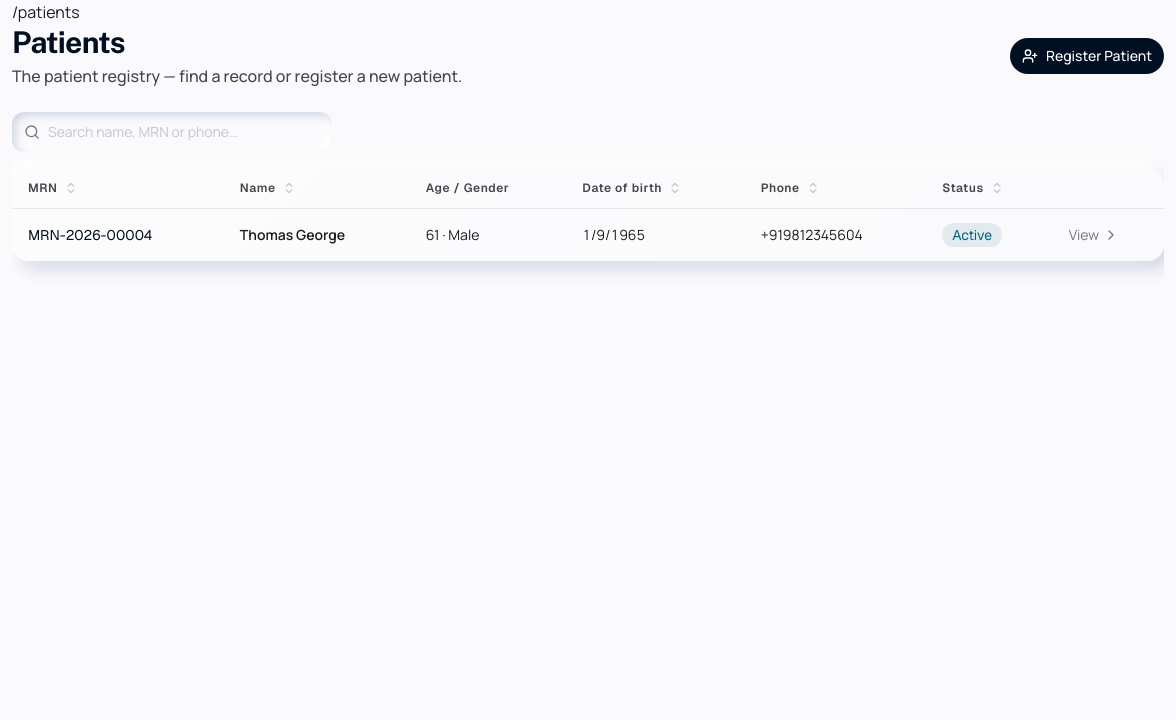
receptionist: patient to appointment › finds a patient by name and opens the record, which cannot be edited
The image size is (1176, 720).
Type "Thom" into the field with placeholder "Search name, MRN or phone…".
click(172, 132); type("Thom")  # box [12,112,332,152]
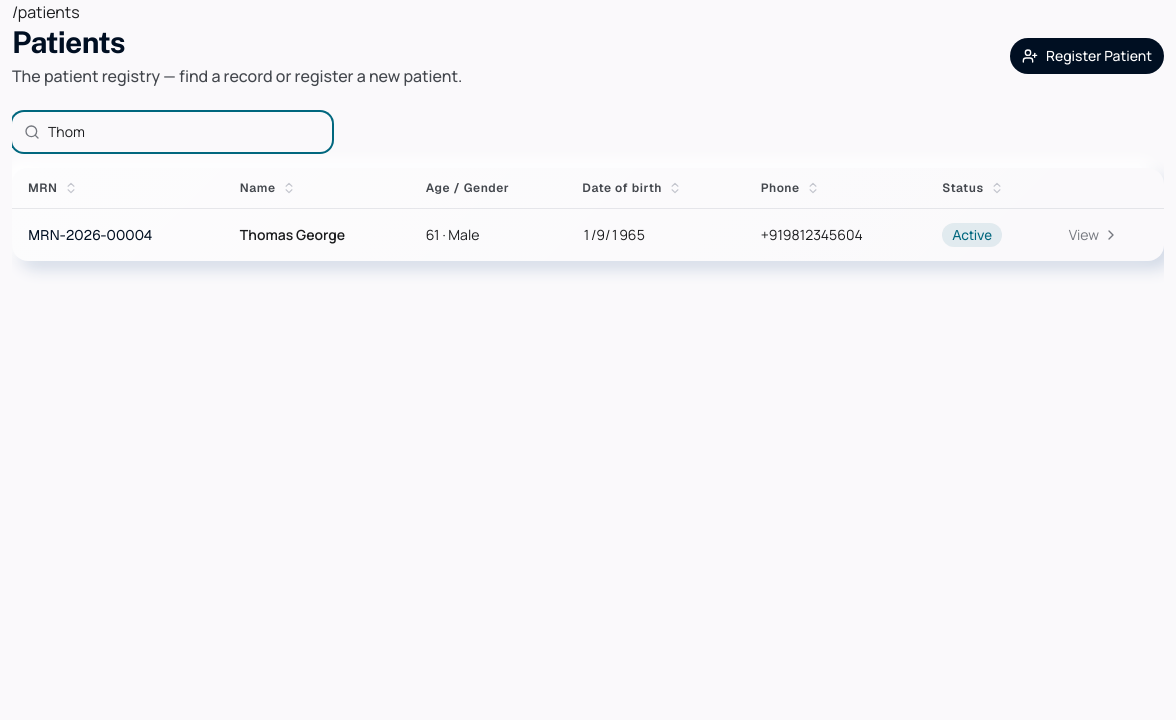
Click the link with aria-label "View Thomas George, MRN-2026-00004".
click(1094, 235)  # box [1069,225,1119,245]
(page scrolled)
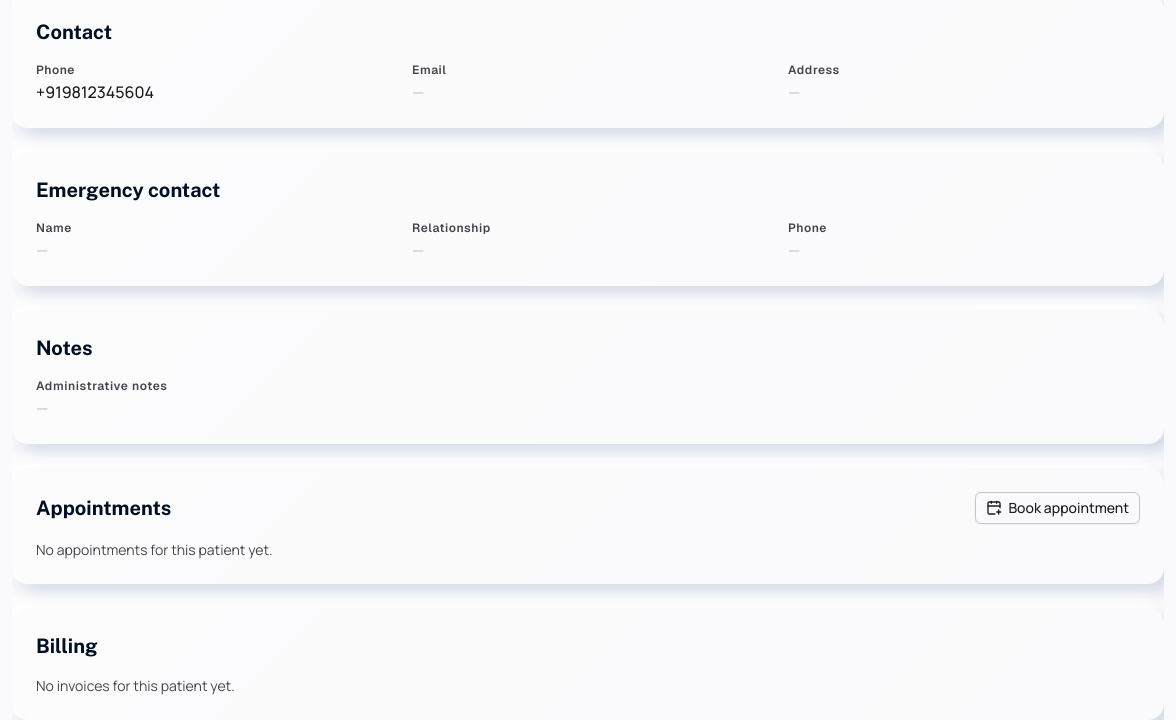
Result: the element "Appointments" shows "No appointments for this patient yet." at [36,540,273,559]
